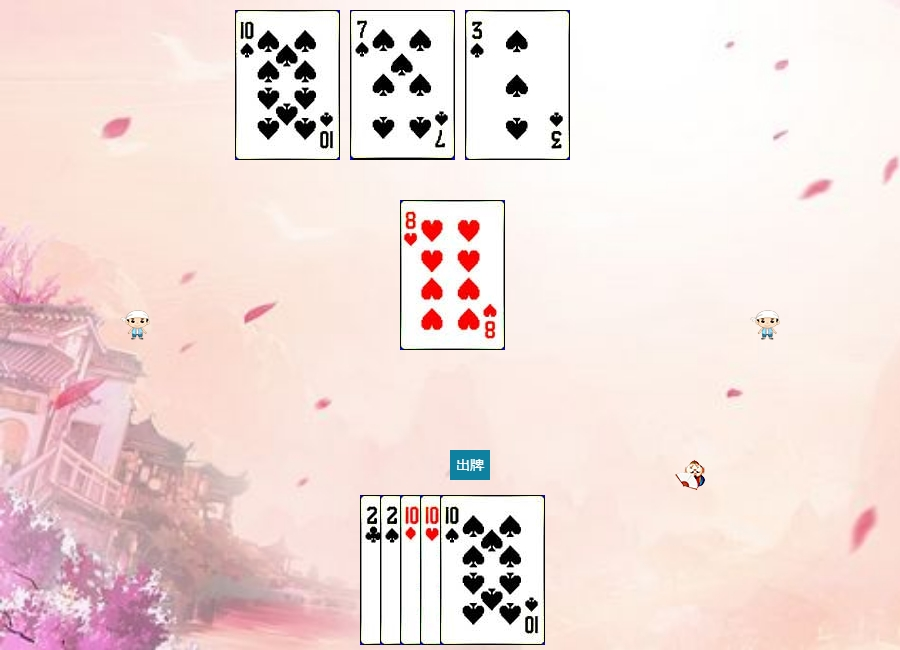10~1: (400, 495, 505, 645)
10~3: (420, 495, 525, 645)
10~4: (235, 10, 340, 160), (440, 495, 545, 645)
15~2: (360, 495, 465, 645)
15~4: (380, 495, 485, 645)
3~4: (465, 10, 570, 160)
7~4: (350, 10, 455, 160)
8~3: (400, 200, 505, 350)
